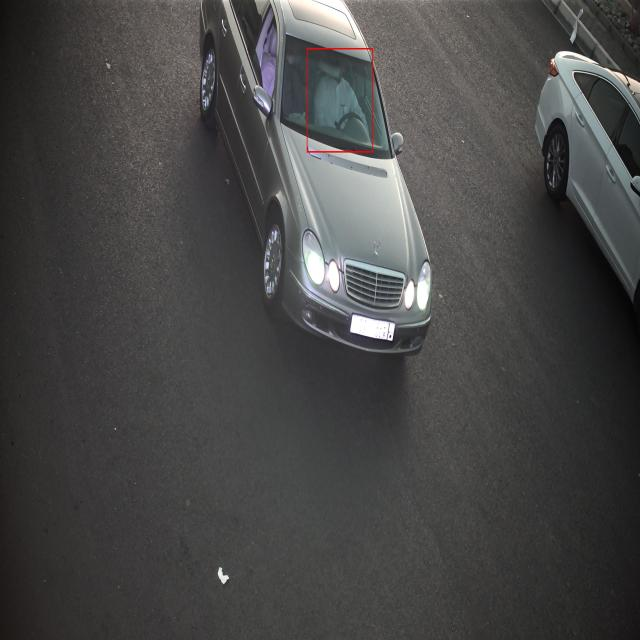windshield: (280, 31, 396, 168)
